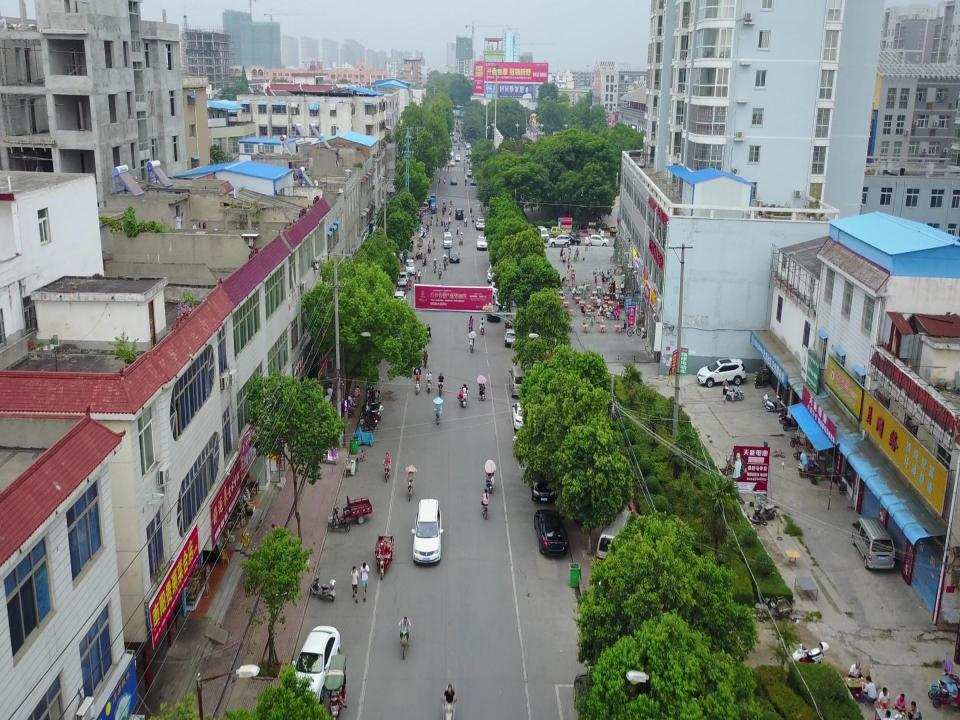car: (292, 624, 341, 705), (410, 497, 444, 565), (535, 508, 569, 557), (696, 358, 746, 386), (529, 459, 556, 502), (511, 402, 533, 429), (585, 234, 609, 247), (504, 328, 520, 347), (558, 232, 581, 245), (488, 281, 506, 297), (487, 262, 500, 284), (486, 303, 500, 322), (549, 235, 571, 247), (393, 291, 407, 308), (476, 234, 488, 250), (550, 227, 568, 236), (448, 249, 460, 262), (398, 270, 409, 284), (454, 207, 464, 220), (475, 217, 485, 229), (466, 169, 474, 178), (450, 176, 458, 184), (466, 147, 472, 156), (449, 159, 455, 167), (448, 149, 454, 156), (471, 178, 477, 185), (449, 129, 454, 136), (455, 154, 460, 161), (467, 143, 471, 149), (470, 163, 474, 169)
van: (852, 516, 895, 571), (598, 505, 632, 563), (509, 363, 528, 396), (537, 226, 549, 242), (442, 231, 452, 250), (406, 258, 416, 275), (456, 125, 460, 133), (453, 135, 457, 142)
